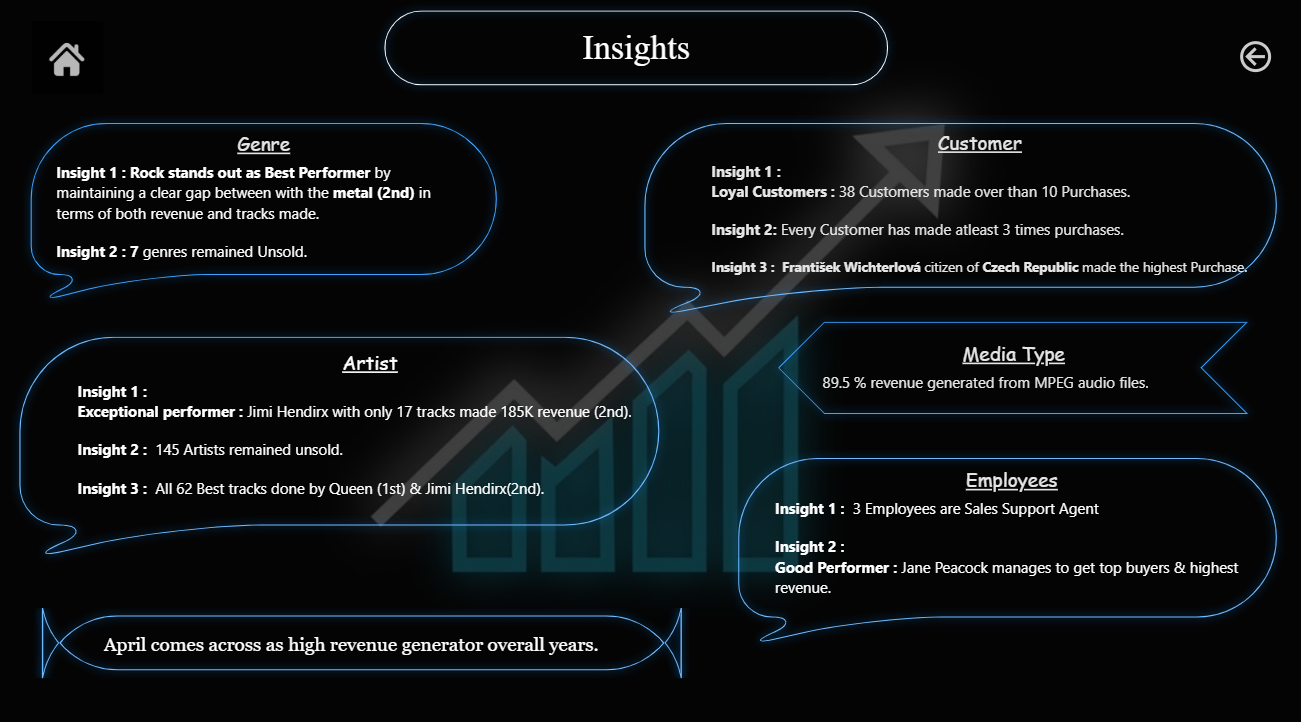

The page's visual inventory and layout, read from the dashboard file:
{"tool":"powerbi","page":{"name":"Insights","canvas":[1280,720],"ordinal":3},"visuals":[{"type":"textbox","title":"Artist","box":[71.2,350.9,584.1,174.2],"z":0},{"type":"shape","title":"Customer","box":[22.1,121.5,473.6,193.9],"z":1000},{"type":"shape","title":"Artist","box":[11,331.3,644.2,236.8],"z":2000},{"type":"shape","box":[716.6,450.3,544.8,202.5],"z":3000},{"type":"shape","box":[624.5,121.5,636.8,208.6],"z":4000},{"type":"textbox","title":"Employees","box":[755.8,466.3,474.8,159.5],"z":5000},{"type":"textbox","title":"Customer","box":[693.3,135,537.4,180.4],"z":6000},{"type":"textbox","title":"Genre","box":[50.3,136.2,417.2,180.4],"z":7000},{"type":"shape","box":[369.3,11,510.4,89.6],"z":8000},{"type":"shape","box":[33.1,604.9,644.2,69.9],"z":9000},{"type":"textbox","box":[96.9,625.8,510.4,62.6],"z":10000},{"type":"image","box":[11,29.4,110.4,71.2],"z":11000},{"type":"actionButton","box":[1212.3,44.2,49.1,40.5],"z":12000},{"type":"shape","box":[755.8,316.6,477.3,106.7],"z":13000},{"type":"textbox","title":"Media Type","box":[802.5,342.3,385.3,65],"z":14000}]}

Visuals, with their boxes in screenshot pixels (x1, y1, x2, y2), scaled from the page's 1280x720 canvas onto the 1301x722 screenshot:
"Artist" textbox: (72, 352, 666, 527)
"Customer" shape: (22, 122, 504, 316)
"Artist" shape: (11, 332, 666, 570)
shape: (728, 452, 1282, 655)
shape: (635, 122, 1282, 331)
"Employees" textbox: (768, 468, 1251, 628)
"Customer" textbox: (705, 135, 1251, 316)
"Genre" textbox: (51, 137, 475, 317)
shape: (375, 11, 894, 101)
shape: (34, 607, 688, 677)
textbox: (98, 628, 617, 690)
image: (11, 29, 123, 101)
actionButton: (1232, 44, 1282, 85)
shape: (768, 317, 1253, 424)
"Media Type" textbox: (816, 343, 1207, 408)
